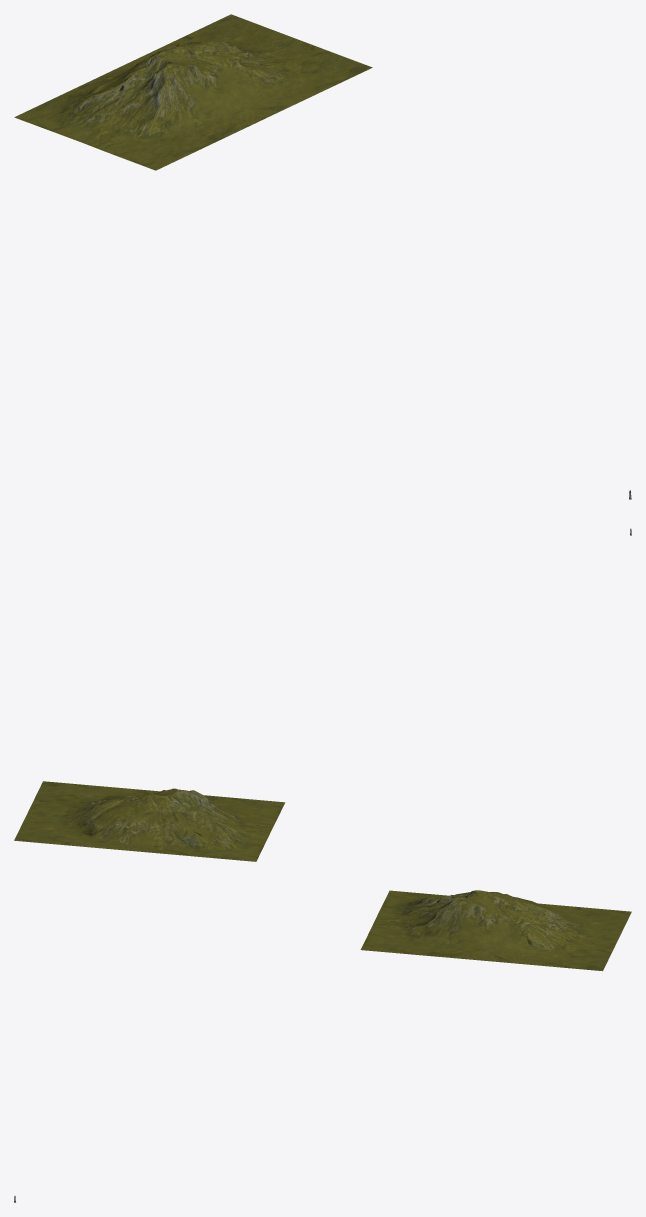
The model's file is backdrop.glb.
3 views of the same model, one above another, from view 1: azimuth 30°, elevation 25°; view 2: azimuth 150°, elevation 25°; view 3: azimuth 330°, elevation 25° (orthographic). The views are drawn at different scales.
Parts seen in each view (by area): view 1: Island_BG_02; view 2: Island_BG_02; view 3: Island_BG_02.
Part boxes in pixels (<box>): Island_BG_02: <box>14,14,372,170</box>; Island_BG_02: <box>14,781,285,861</box>; Island_BG_02: <box>360,890,631,971</box>.
Bounding box in the file's own units: 2040 × 267 × 6701.
2 materials, 2 textured.
